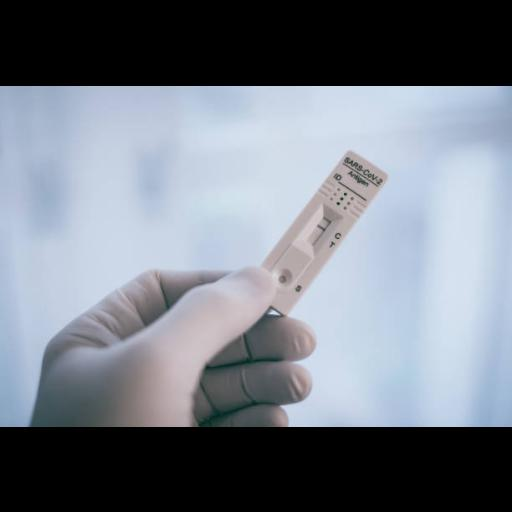Neg: (245, 147, 392, 316)
